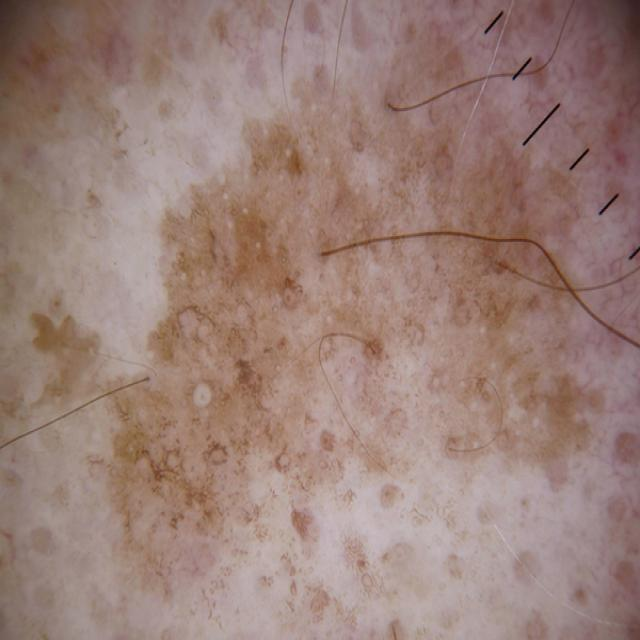Skin-Cancer Pigmented benign keratosis: (13, 6, 640, 640)
